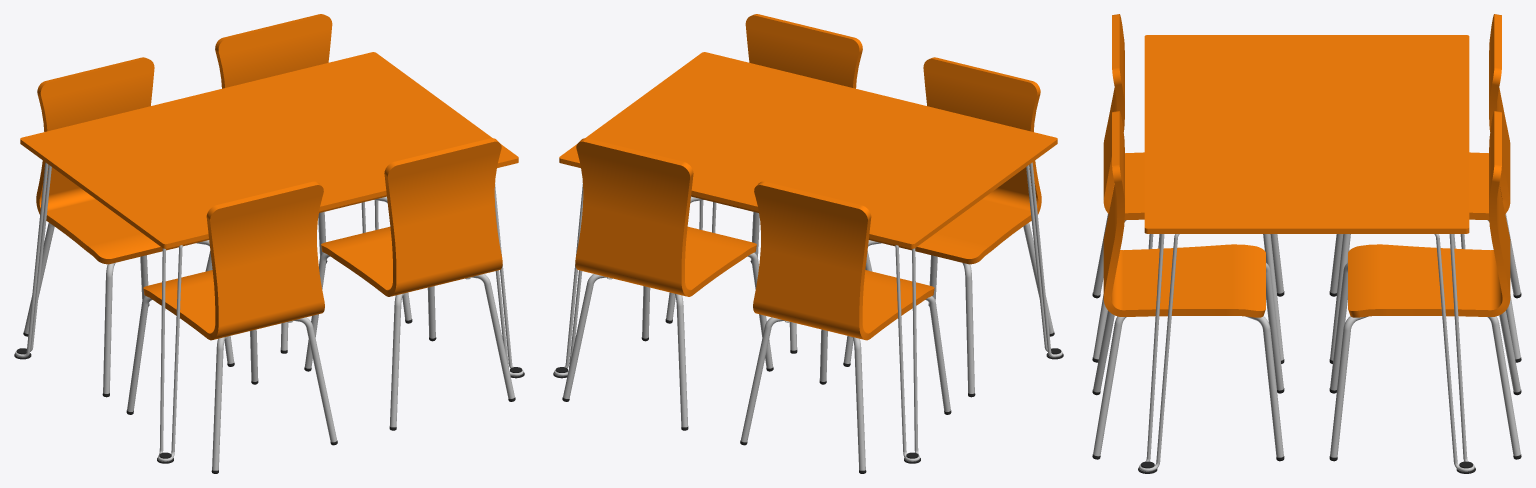
The model's file is table.fbx.
3 renders of one model, left to right at view 1: azimuth 30°, elevation 25°; view 2: azimuth 150°, elevation 25°; view 3: azimuth 270°, elevation 25°, orthographic. The views are drawn at different scales.
Visible parts, largest first — view 1: Body1, Body1_73, Body1_93, Body1_53, Body1_33, Body1_86, Body1_13, Body1_66, Body1_8, Body1_67, Body1_87, Body1_47 (+2 smaller); view 2: Body1, Body1_33, Body1_53, Body1_93, Body1_73, Body1_47, Body1_8, Body1_27, Body1_13, Body1_46, Body1_26, Body1_86 (+2 smaller); view 3: Body1, Body1_33, Body1_73, Body1_93, Body1_53, Body1_5, Body1_12, Body1_27, Body1_66, Body1_26, Body1_67, Body1_46 (+3 smaller).
Boxes of the visible parts, x1,y1,x2,y2 form: Body1: (20, 52, 518, 248); Body1_73: (321, 138, 502, 296); Body1_93: (143, 181, 324, 340); Body1_53: (36, 57, 208, 264); Body1_33: (215, 14, 386, 212); Body1_86: (127, 296, 337, 442); Body1_13: (157, 245, 182, 461); Body1_66: (304, 252, 514, 398); Body1_8: (15, 162, 51, 357); Body1_67: (389, 286, 435, 427); Body1_87: (212, 329, 258, 470); Body1_47: (103, 255, 149, 393); Body1: (559, 52, 1057, 248); Body1_33: (575, 138, 756, 296); Body1_53: (753, 181, 934, 340); Body1_93: (869, 57, 1041, 264); Body1_73: (691, 14, 862, 212); Body1_47: (740, 296, 950, 442); Body1_8: (895, 245, 920, 461); Body1_27: (563, 252, 773, 398); Body1_13: (1026, 162, 1062, 357); Body1_46: (819, 329, 865, 470); Body1_26: (642, 286, 688, 427); Body1_86: (928, 255, 974, 393); Body1: (1144, 35, 1469, 233); Body1_33: (1348, 111, 1510, 317); Body1_73: (1103, 111, 1265, 317); Body1_93: (1103, 14, 1144, 220); Body1_53: (1469, 14, 1510, 220); Body1_5: (1434, 234, 1474, 471); Body1_12: (1139, 234, 1179, 471); Body1_27: (1330, 263, 1520, 456); Body1_66: (1093, 263, 1283, 456); Body1_26: (1330, 311, 1520, 457); Body1_67: (1093, 311, 1283, 457); Body1_46: (1330, 214, 1520, 360).
Size of what is drawn, in the model's own units: 123 by 83.27 by 112.
